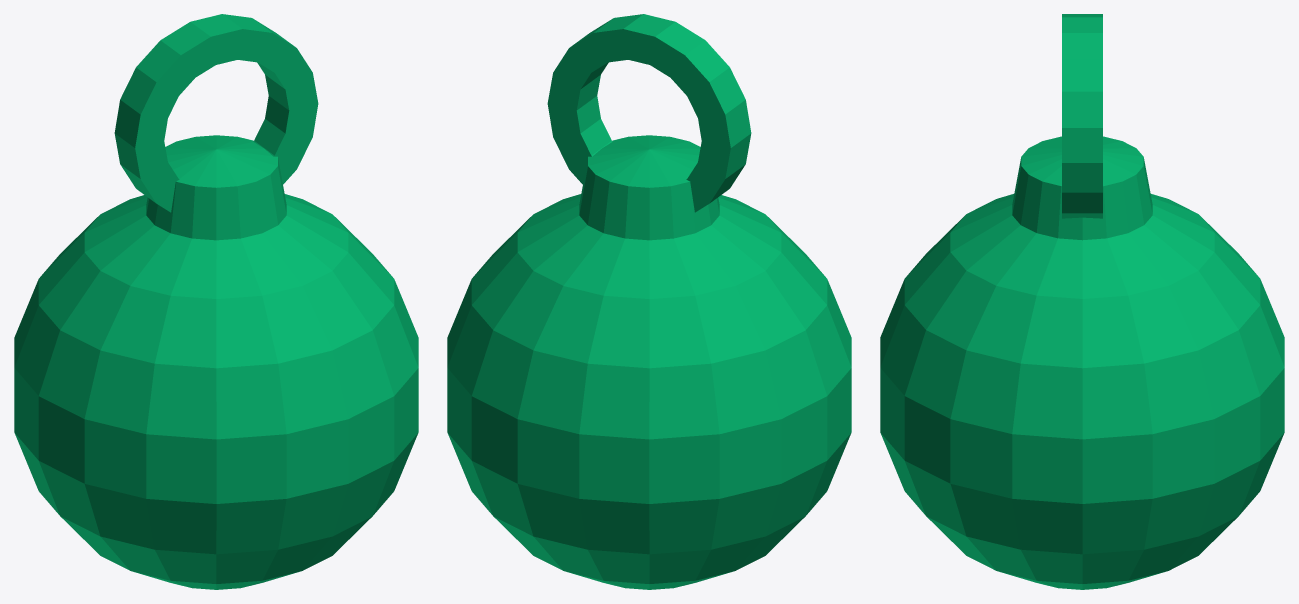
File: LightBulb_Green.fbx
3 views of the same model, side by side, from view 1: azimuth 30°, elevation 25°; view 2: azimuth 150°, elevation 25°; view 3: azimuth 270°, elevation 25° (orthographic).
Visible parts, largest first — view 1: sphere, tube; view 2: sphere, tube; view 3: sphere, tube.
Boxes of the visible parts, <box> form: sphere: <box>14,135,418,589</box>; tube: <box>114,14,318,212</box>; sphere: <box>447,135,851,589</box>; tube: <box>547,14,751,212</box>; sphere: <box>880,136,1284,589</box>; tube: <box>1062,14,1102,218</box>.
Size of the model in its own units: 37.5 by 55 by 36.93.
1 material, 1 textured.
